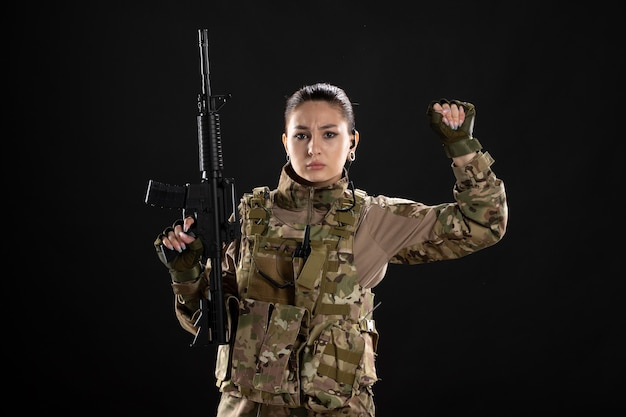gun: (143, 27, 237, 350)
